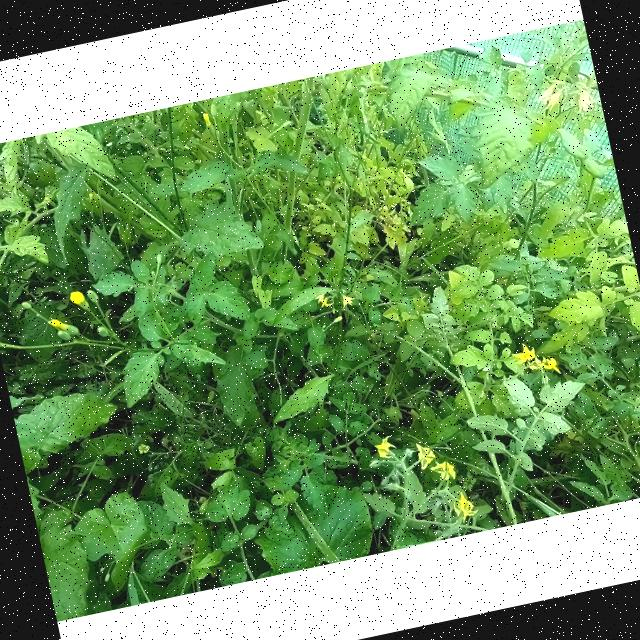Flowers: (42, 314, 82, 344), (526, 352, 565, 382), (446, 490, 479, 524), (534, 81, 566, 112), (410, 438, 439, 472), (506, 340, 538, 366), (372, 435, 398, 462), (429, 457, 457, 482), (572, 81, 593, 114), (66, 288, 90, 312), (338, 290, 359, 310), (316, 290, 334, 311)
